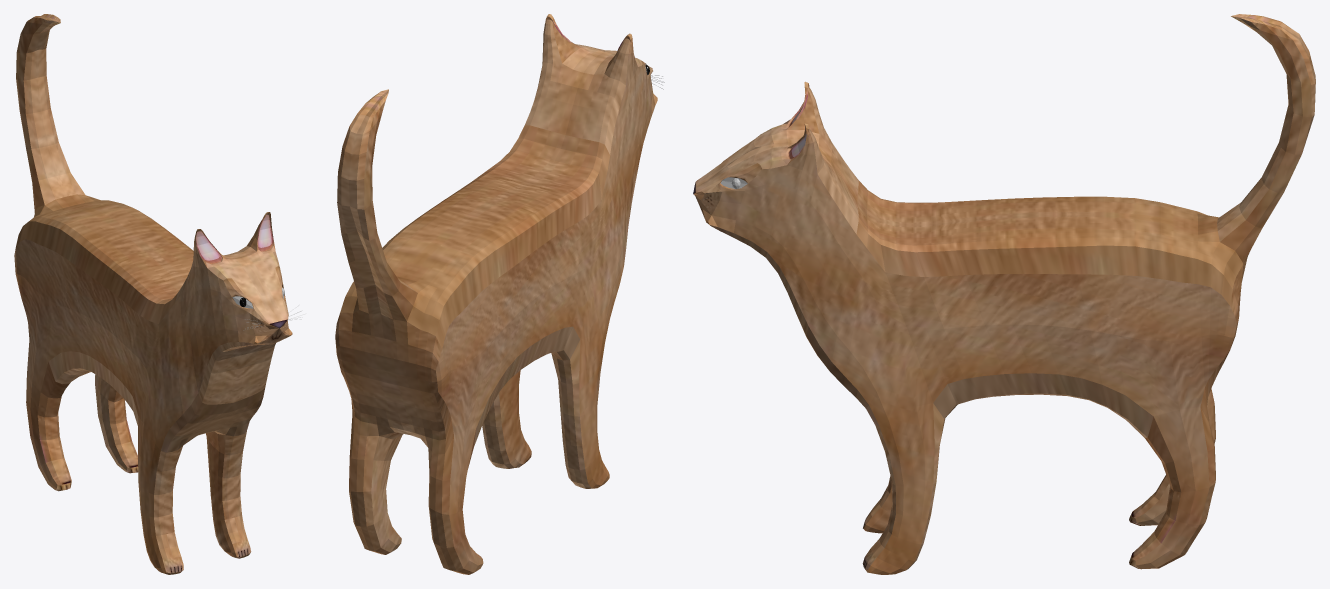
The model's file is PRUEBA 2_2.fbx.
3 views of the same model, side by side, from view 1: azimuth 30°, elevation 25°; view 2: azimuth 150°, elevation 25°; view 3: azimuth 270°, elevation 25° (orthographic). The views are drawn at different scales.
Parts seen in each view (by area): view 1: Plano; view 2: Plano; view 3: Plano.
Part boxes in pixels (x1,y1,x2,y2): Plano: (14,14,292,574); Plano: (335,14,657,574); Plano: (693,14,1315,574).
Size of the model in its own units: 293 by 1320 by 1396.
